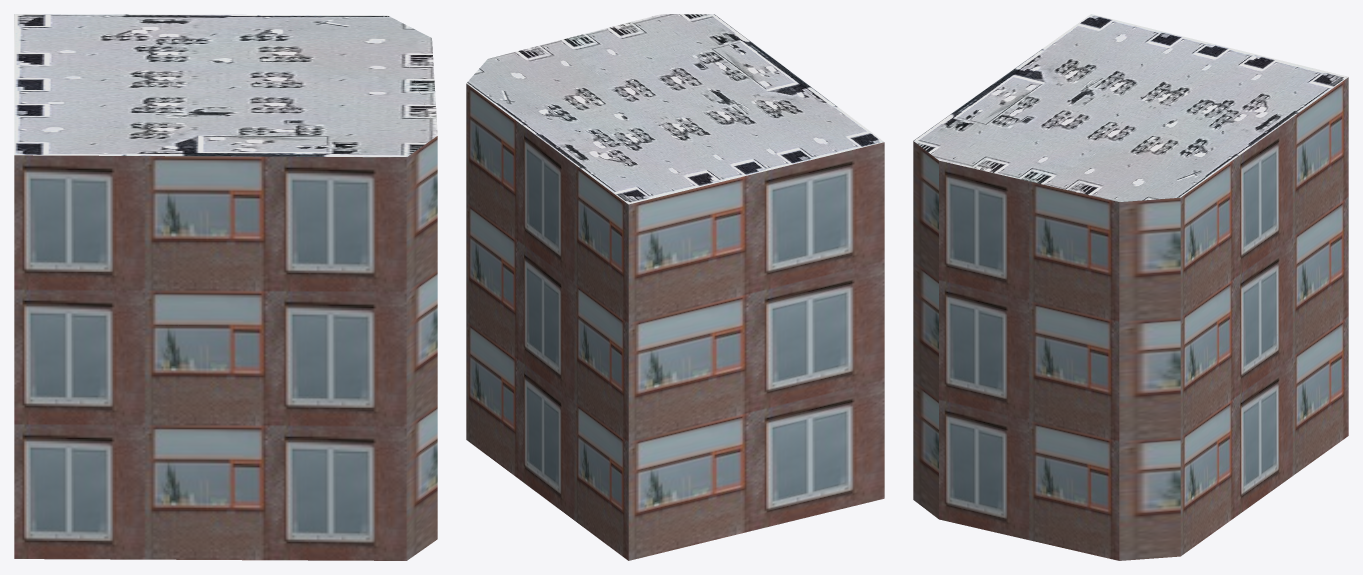
Rendered from ResTex__2612.fbx.
3 renders of one model, left to right at view 1: azimuth 30°, elevation 25°; view 2: azimuth 150°, elevation 25°; view 3: azimuth 270°, elevation 25°, orthographic. The views are drawn at different scales.
Parts seen in each view (by area): view 1: CityEngineMaterial_19_m, CityEngineMaterial_15_m; view 2: CityEngineMaterial_19_m, CityEngineMaterial_15_m; view 3: CityEngineMaterial_19_m, CityEngineMaterial_15_m.
Boxes of the visible parts, left/top/right/bottom form: CityEngineMaterial_19_m: left=14, top=136, right=437, bottom=560; CityEngineMaterial_15_m: left=14, top=14, right=437, bottom=157; CityEngineMaterial_19_m: left=466, top=83, right=884, bottom=560; CityEngineMaterial_15_m: left=466, top=14, right=884, bottom=204; CityEngineMaterial_19_m: left=913, top=77, right=1348, bottom=560; CityEngineMaterial_15_m: left=913, top=14, right=1348, bottom=201.
Size of the model in its own units: 10.12 by 9 by 9.9.
2 materials, 2 textured.
